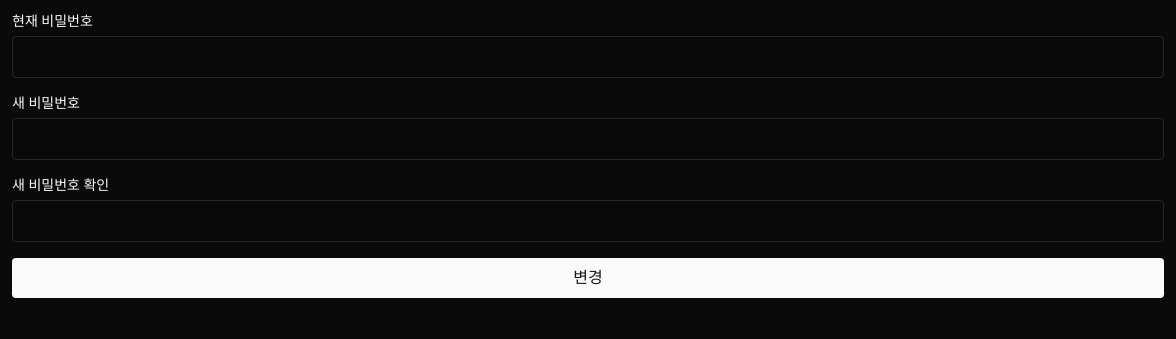
ChangePasswordForm › newPassword === currentPassword → 현재 비밀번호와 달라야 합니다
Type "Password!1AB" into the password field labelled "현재 비밀번호" at (588, 57), box [12,36,1164,78]
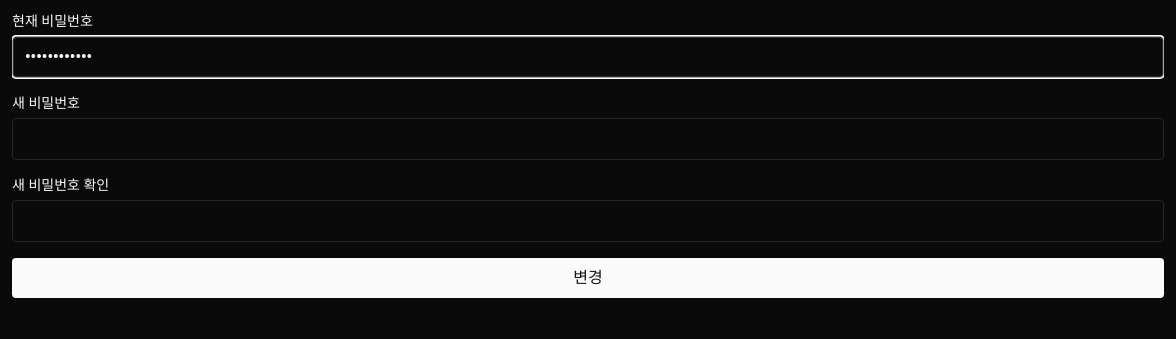
Type "Password!1AB" into the password field labelled "새 비밀번호" at (588, 139), box [12,118,1164,160]
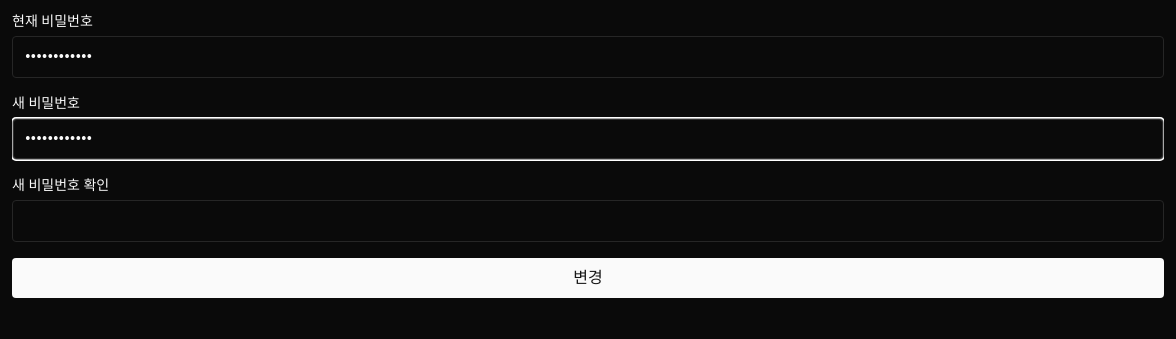
Type "Password!1AB" into the password field labelled "새 비밀번호 확인" at (588, 221), box [12,200,1164,242]
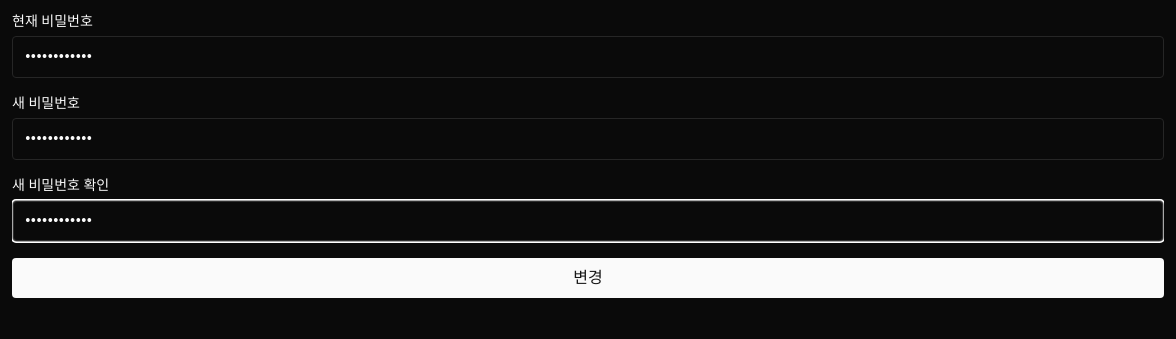
Click the button "변경" at (588, 278), box [12,258,1164,298]
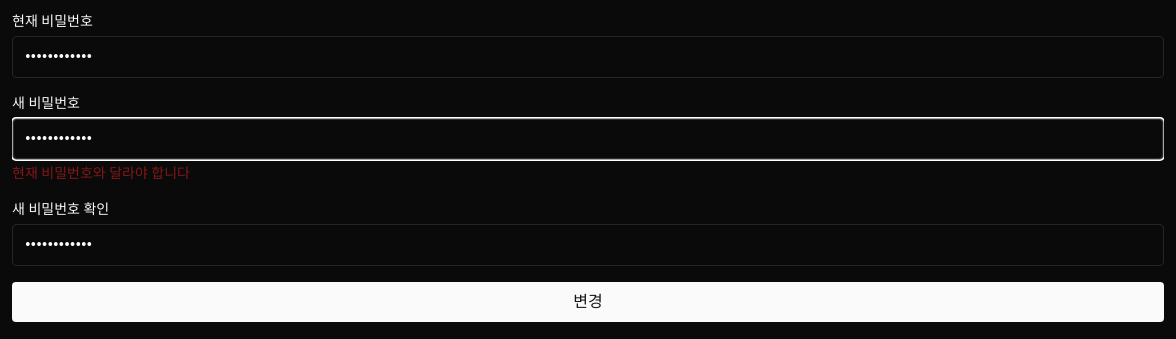
Expected: the text "현재 비밀번호와 달라야 합니다" is shown, [12,166,190,181]
